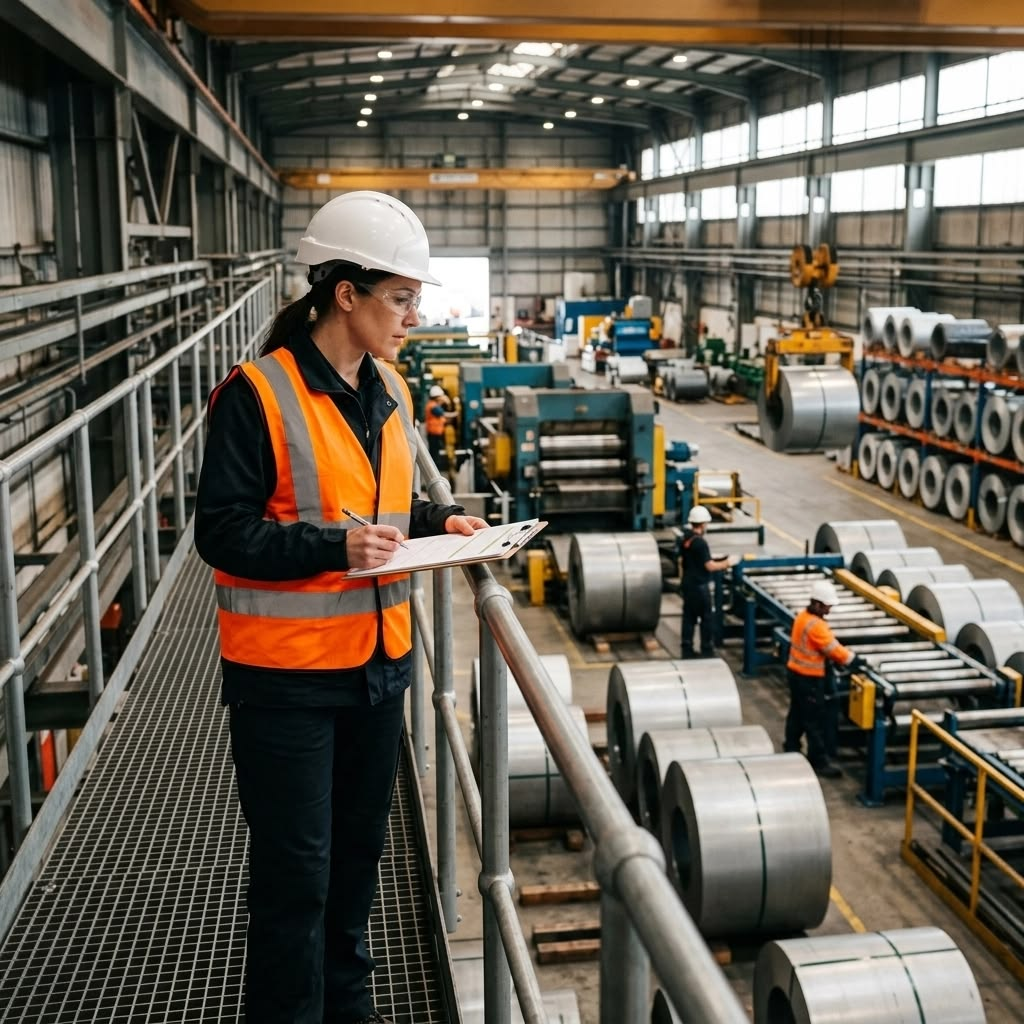hardhat: (280, 180, 440, 286), (798, 580, 840, 605), (681, 501, 715, 523)
no_safety_vest: (676, 525, 722, 609)
person: (169, 168, 485, 1012), (771, 578, 855, 782), (653, 488, 736, 692)
safety_vest: (216, 356, 415, 661), (783, 611, 843, 716)
